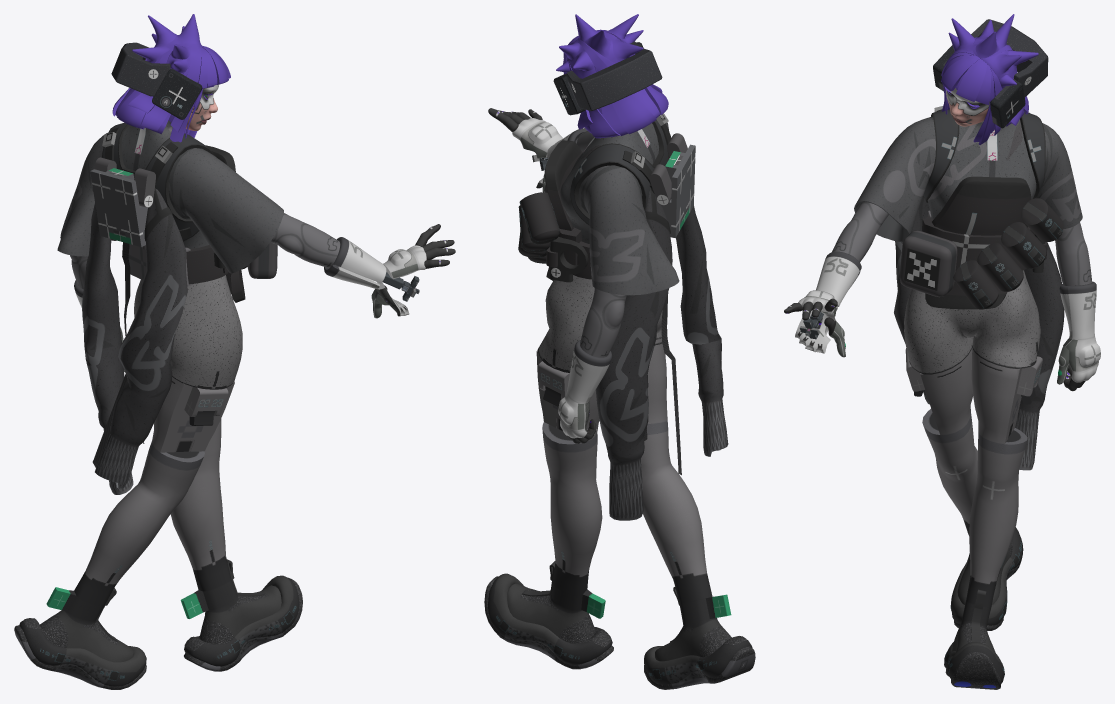
File: shadow_index.glb
3 views of the same model, side by side, from view 1: azimuth 30°, elevation 25°; view 2: azimuth 150°, elevation 25°; view 3: azimuth 270°, elevation 25° (orthographic). The views are drawn at different scales.
Parts seen in each view (by area): view 1: Legs_Low1, render_cloth1, target1, Chest4, Agile_Hair1, Agile_Backpack1, Agile_Helmet1, Arm_R1, Hand_R_Forearm_Top1, fingers1, Hand_R_Palm_Top1, decal_legs1 (+1 smaller); view 2: Legs_Low1, render_cloth1, Chest4, target1, Agile_Hair1, Agile_Helmet1, Agile_Backpack1, Hand_L_Main1, Arm_L1, Hand_R_Palm_Top1, fingers1, decal_legs1 (+1 smaller); view 3: Legs_Low1, Chest4, target1, Agile_Hair1, render_cloth1, Agile_Helmet1, Hand_L_Main1, decal_chest1, Arm_L1, Arm_R1, fingers1, Hand_R_Forearm_Top1 (+2 smaller).
Part boxes in pixels (box(x1,y1,x2,y2)): Legs_Low1: box(14, 275, 302, 689); render_cloth1: box(82, 188, 187, 494); target1: box(57, 133, 283, 273); Chest4: box(102, 120, 277, 302); Agile_Hair1: box(112, 14, 230, 142); Agile_Backpack1: box(90, 127, 191, 249); Agile_Helmet1: box(111, 42, 202, 119); Arm_R1: box(270, 213, 340, 267); Hand_R_Forearm_Top1: box(334, 237, 386, 283); fingers1: box(121, 224, 455, 372); Hand_R_Palm_Top1: box(383, 245, 426, 279); decal_legs1: box(40, 399, 296, 680); Legs_Low1: box(484, 275, 755, 689); render_cloth1: box(595, 188, 728, 520); Chest4: box(518, 120, 671, 282); target1: box(578, 122, 679, 295); Agile_Hair1: box(556, 14, 668, 138); Agile_Helmet1: box(553, 41, 662, 115); Agile_Backpack1: box(622, 113, 695, 238); Hand_L_Main1: box(558, 340, 612, 438); Arm_L1: box(580, 288, 626, 357); Hand_R_Palm_Top1: box(512, 118, 562, 158); fingers1: box(488, 108, 596, 443); decal_legs1: box(496, 373, 716, 679); Legs_Low1: box(904, 270, 1042, 689); Chest4: box(899, 109, 1063, 309); target1: box(854, 116, 1082, 241); Agile_Hair1: box(941, 14, 1038, 144); render_cloth1: box(894, 197, 1064, 470); Agile_Helmet1: box(933, 19, 1048, 128); Hand_L_Main1: box(1059, 281, 1100, 382); decal_chest1: box(941, 121, 1062, 308); Arm_L1: box(1055, 222, 1092, 285); Arm_R1: box(832, 202, 888, 262); fingers1: box(784, 298, 1085, 391); Hand_R_Forearm_Top1: box(816, 251, 861, 306).
Size of the model in its own units: 1.04 by 1.87 by 0.838.
Materials: 16 (14 with a texture image).
